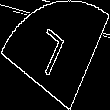L_SW: (35, 25, 75, 85)
